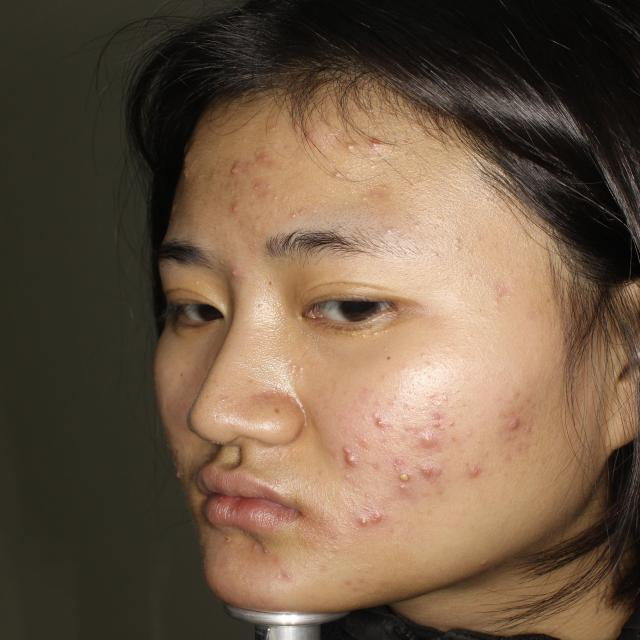acne: (351, 505, 387, 530), (500, 413, 530, 441), (385, 465, 418, 488), (257, 174, 281, 202), (461, 455, 488, 479), (509, 384, 535, 408), (224, 159, 248, 183), (369, 413, 393, 437), (413, 425, 434, 452), (260, 146, 284, 166), (357, 129, 379, 150), (420, 461, 440, 484), (226, 198, 254, 214), (421, 400, 443, 420), (273, 563, 292, 584), (338, 445, 352, 472), (239, 539, 261, 554), (227, 262, 243, 281)
